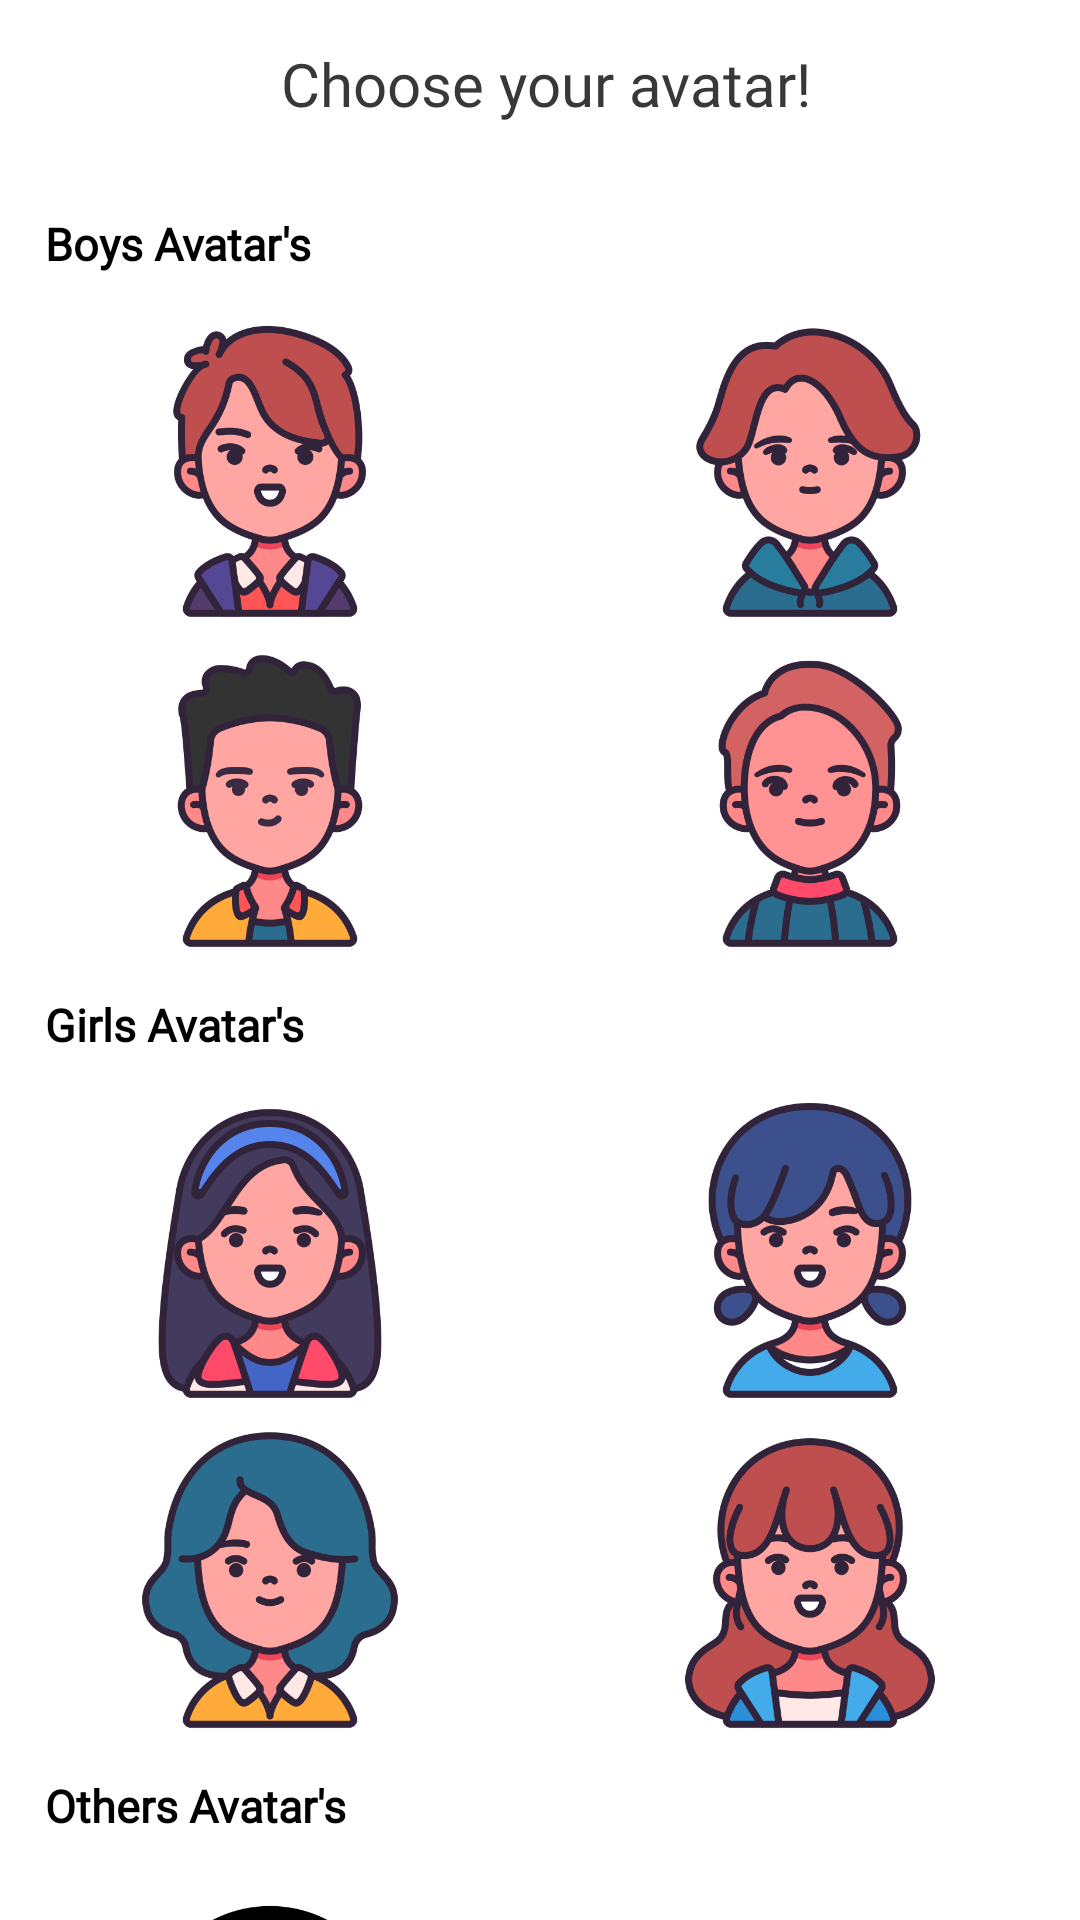

Icons on this 1080 × 1920 Android screen, each with its box as (left=x1, top=y1, right=x2, bottom=y2):
profile boy: (left=173, top=326, right=366, bottom=617), (left=696, top=328, right=921, bottom=617), (left=177, top=655, right=363, bottom=947), (left=718, top=660, right=902, bottom=947)
profile girl: (left=708, top=1103, right=912, bottom=1398), (left=158, top=1109, right=382, bottom=1398), (left=142, top=1432, right=398, bottom=1728), (left=685, top=1438, right=935, bottom=1728)
